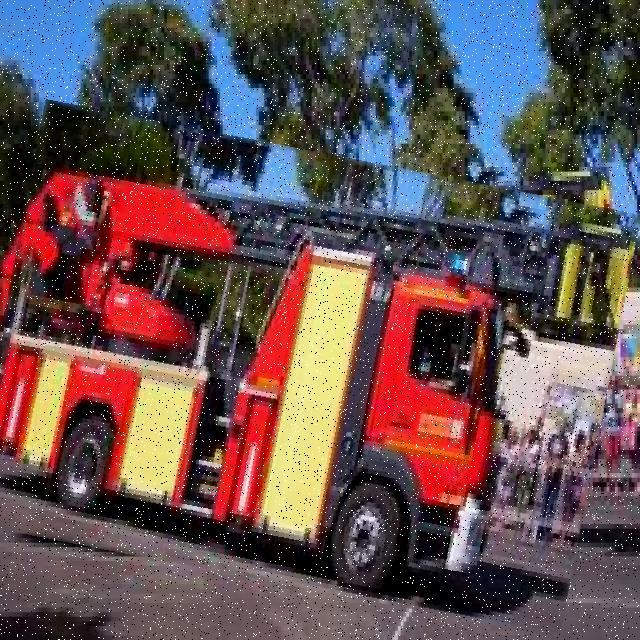pompier: (0, 126, 625, 610)
